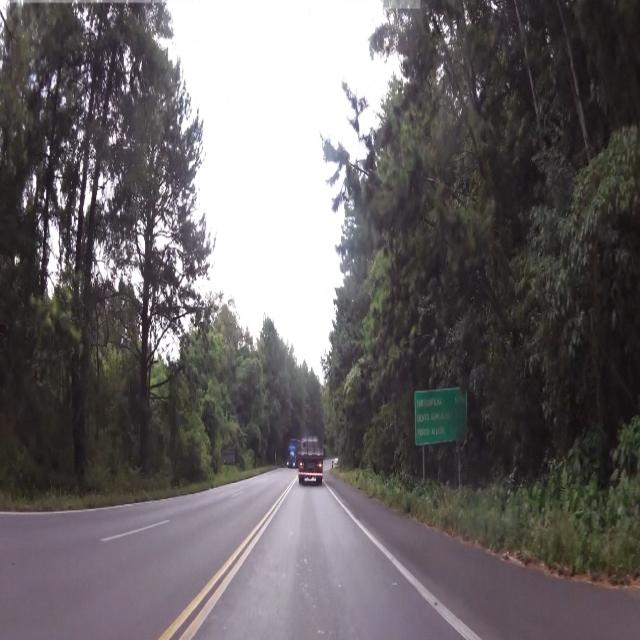I-4: (415, 390, 467, 441)
